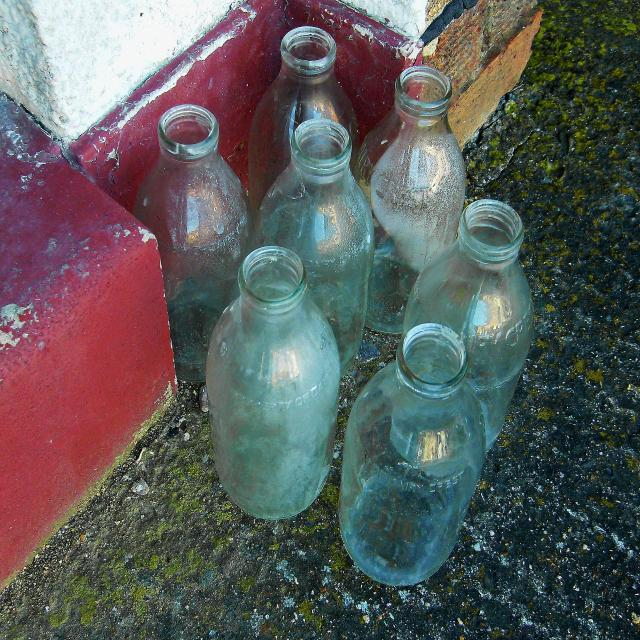plastic_bottle: (338, 322, 487, 586)
